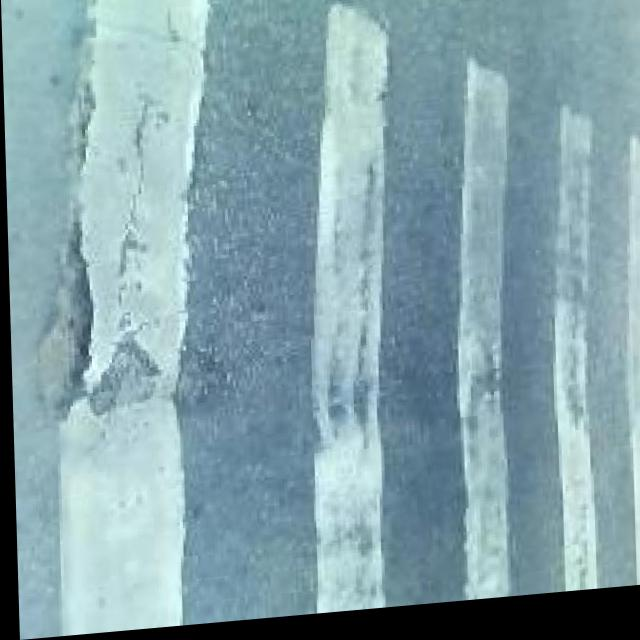zebra: (4, 143, 640, 640)
